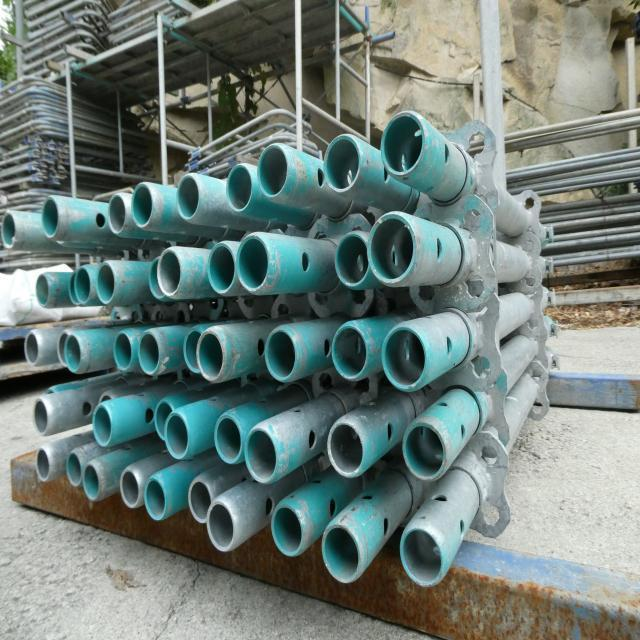pipe: (393, 517, 451, 592), (368, 209, 420, 290), (400, 414, 456, 488), (378, 109, 431, 180), (381, 322, 433, 394), (324, 412, 372, 487), (320, 516, 370, 585), (322, 128, 368, 200), (262, 322, 311, 389), (328, 318, 373, 389), (254, 138, 298, 204), (236, 230, 277, 300), (242, 420, 284, 488), (202, 493, 245, 558), (266, 500, 310, 563), (333, 231, 376, 295), (194, 324, 234, 386), (223, 156, 259, 216), (212, 410, 248, 470), (127, 178, 166, 233), (172, 172, 210, 228), (208, 240, 242, 302), (140, 468, 178, 522), (165, 408, 199, 464), (187, 474, 221, 528), (158, 246, 190, 303), (137, 326, 169, 382), (118, 464, 150, 514), (80, 458, 112, 508), (39, 192, 69, 243), (112, 327, 142, 377), (95, 260, 124, 310), (90, 402, 120, 450), (105, 188, 131, 242), (182, 324, 209, 376), (64, 328, 92, 376), (154, 396, 178, 448), (0, 206, 26, 253), (66, 446, 92, 492), (149, 254, 171, 307), (33, 441, 59, 483), (75, 264, 98, 310), (24, 326, 46, 372), (56, 327, 79, 370), (35, 268, 58, 310), (34, 393, 56, 435), (69, 268, 84, 310)
